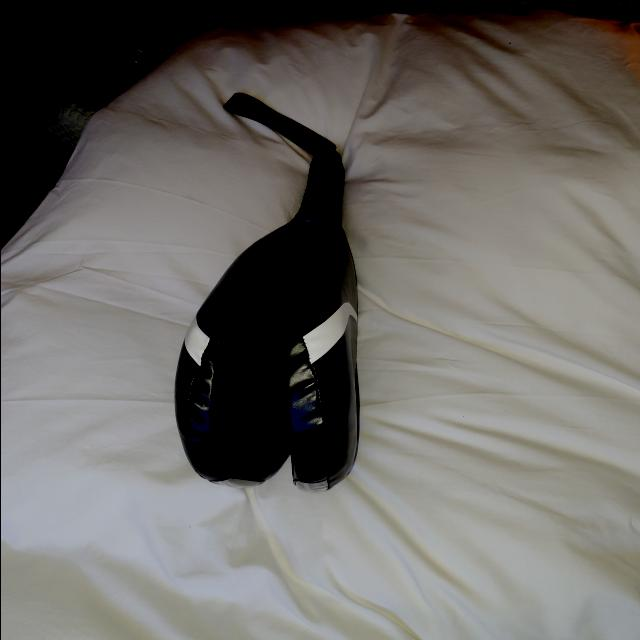paddle: (170, 152, 366, 490)
